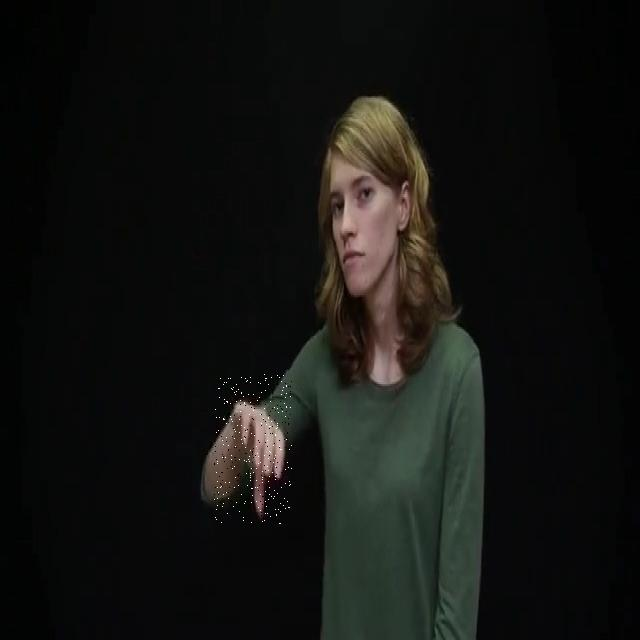pepper: (214, 374, 292, 524)
